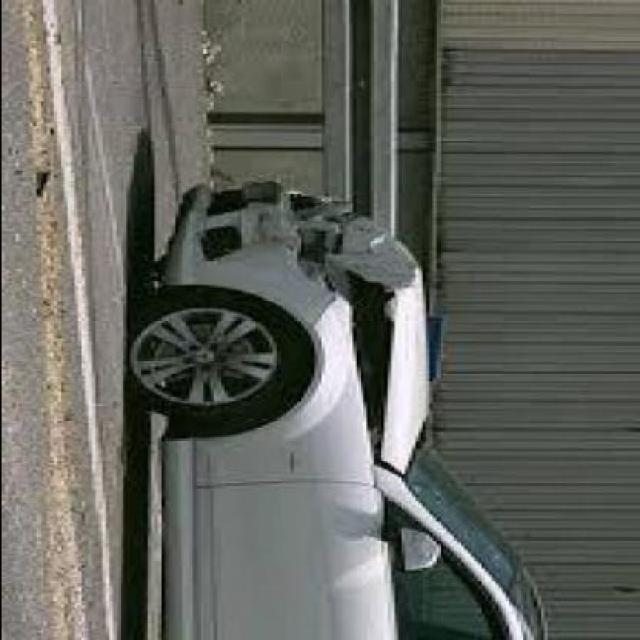damage: (188, 184, 428, 464)
